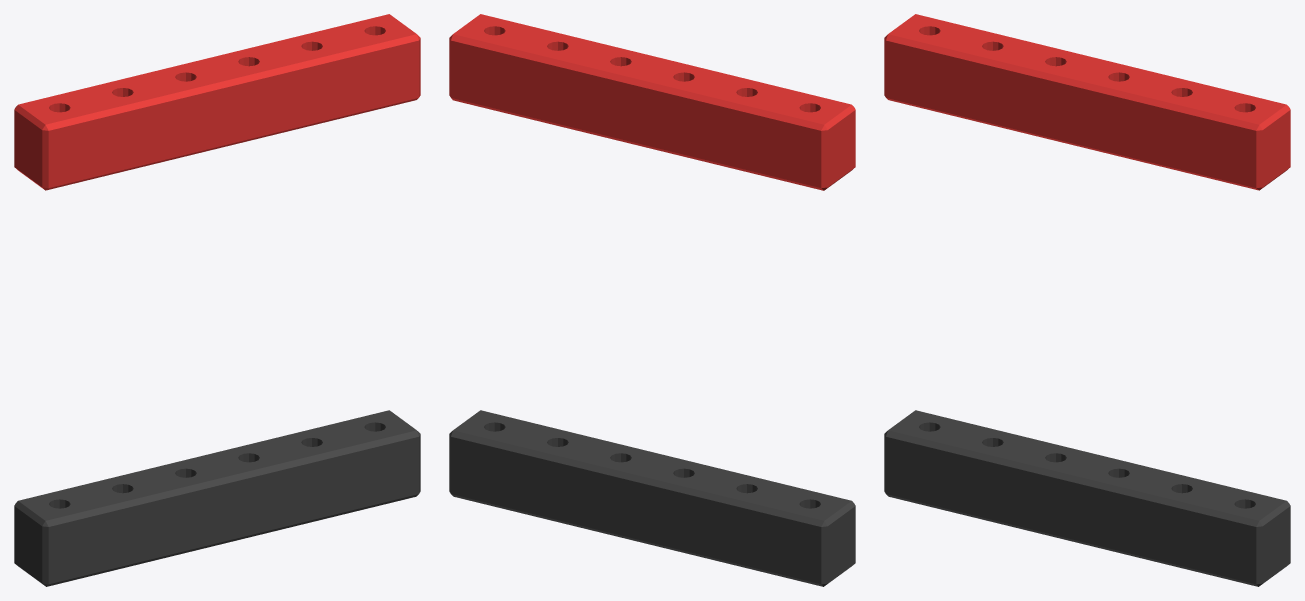
Rendered from Wooden Pole Stand.fbx.
3 renders of one model, left to right at view 1: azimuth 30°, elevation 25°; view 2: azimuth 150°, elevation 25°; view 3: azimuth 330°, elevation 25°, orthographic.
Visible parts, largest first — view 1: Wooden Pole Stand; view 2: Wooden Pole Stand; view 3: Wooden Pole Stand.
Part boxes in pixels (x1,y1,x2,y2): Wooden Pole Stand: [14, 14, 420, 586]; Wooden Pole Stand: [449, 14, 855, 586]; Wooden Pole Stand: [884, 14, 1290, 586].
Size of the model in its own units: 600 by 700 by 90.
